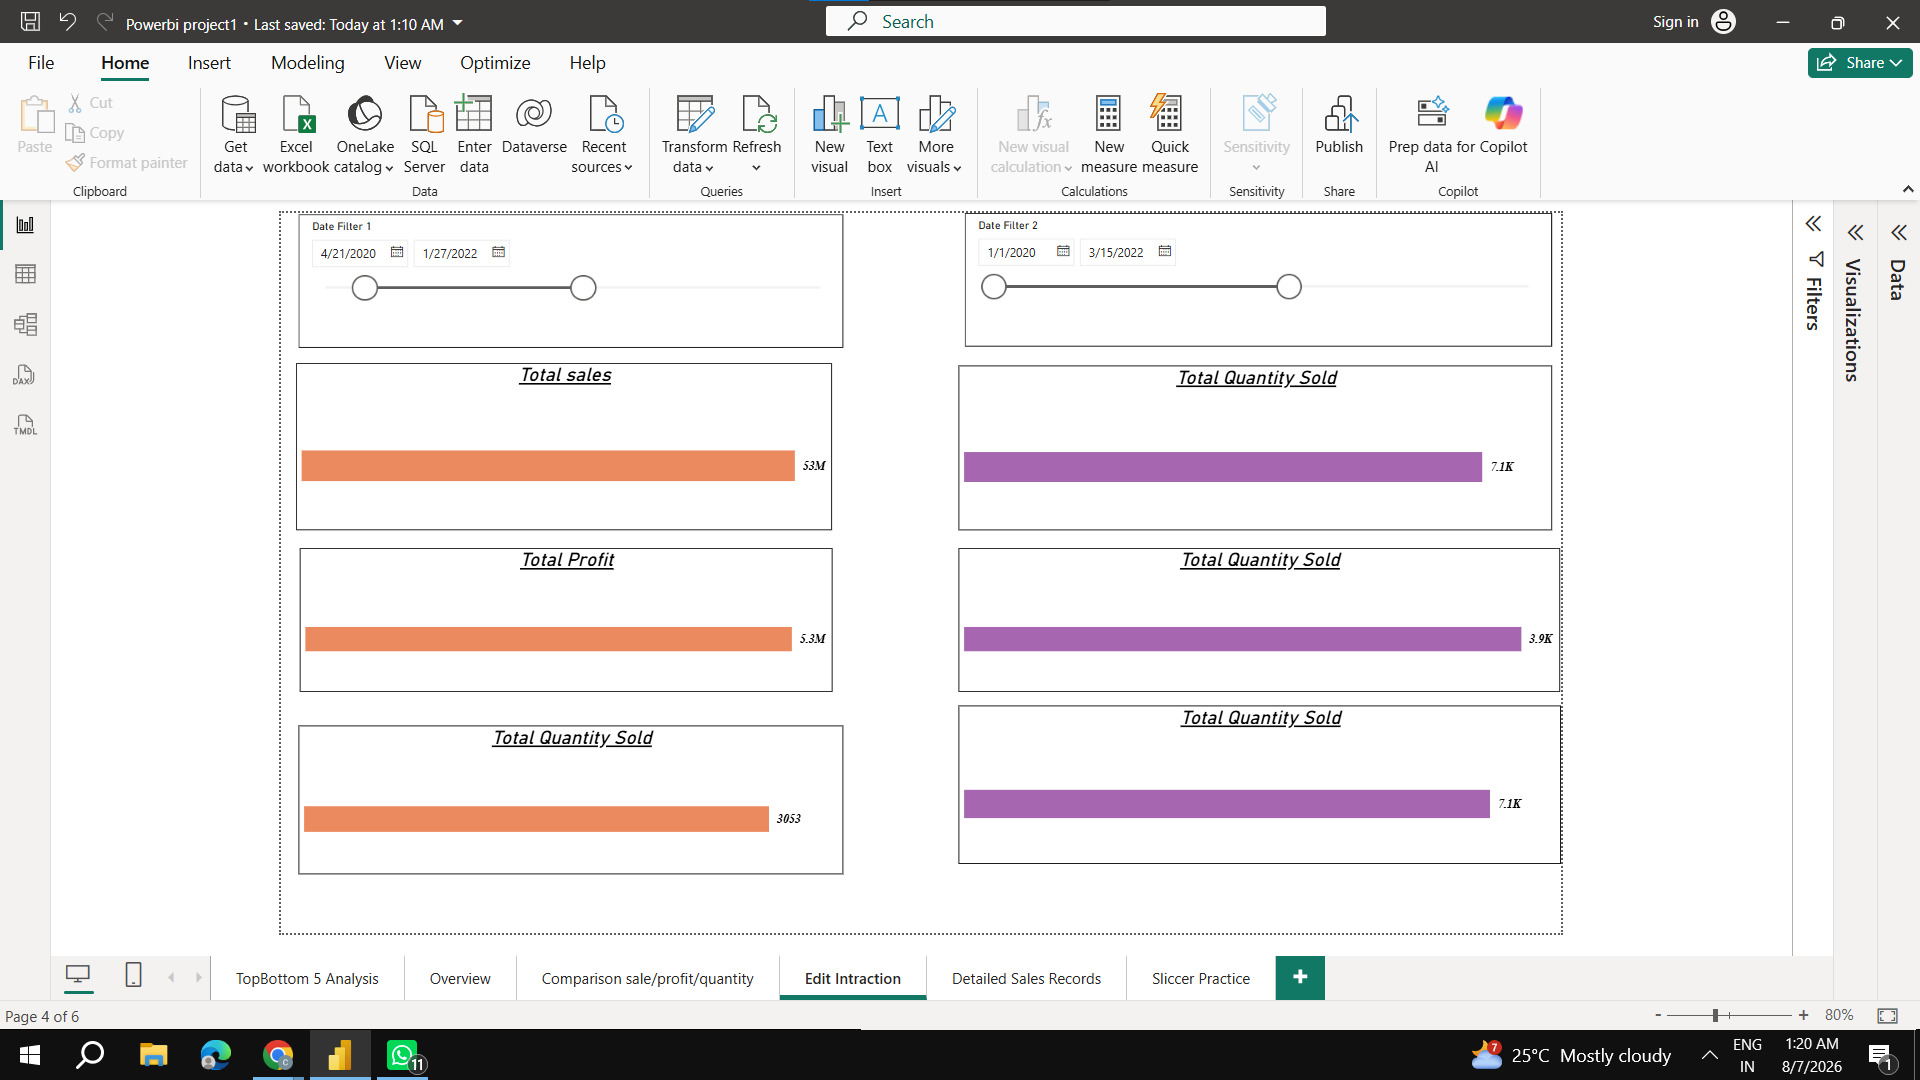

This screenshot's page, from the dashboard's own definition file:
{"tool":"powerbi","page":{"name":"Edit Intraction","canvas":[1280,720],"ordinal":3},"visuals":[{"type":"slicer","fields":{"Values":["Fact Table.Date (dd/mm/yyyy)"]},"box":[17.5,1.2,545,133.8],"z":0},{"type":"slicer","fields":{"Values":["Fact Table.Date (dd/mm/yyyy)"]},"box":[683.8,0,587.5,133.8],"z":1000},{"type":"barChart","title":"Total sales  ","fields":{"Y":["Sum(Fact Table.Net sales  )"]},"box":[15,150,536.2,167.5],"z":2000},{"type":"barChart","title":"Total Profit  ","fields":{"Y":["Sum(Fact Table.Profit)"]},"box":[18.8,335,532.5,143.8],"z":3000},{"type":"barChart","title":"Total Quantity Sold  ","fields":{"Y":["Sum(Fact Table.Units Sold)"]},"box":[17.5,512.5,545,148.8],"z":4000},{"type":"barChart","title":"Total Quantity Sold  ","fields":{"Y":["Sum(Fact Table.Units Sold)"]},"box":[677.5,152.5,593.8,165],"z":5000},{"type":"barChart","title":"Total Quantity Sold  ","fields":{"Y":["Sum(Fact Table.Units Sold)"]},"box":[677.5,335,601.2,143.8],"z":6000},{"type":"barChart","title":"Total Quantity Sold  ","fields":{"Y":["Sum(Fact Table.Units Sold)"]},"box":[677.5,492.5,602.5,158.8],"z":7000}]}

Visuals, with their boxes on the page's 1280x720 design canvas (x1, y1, x2, y2). These are canvas units, not pixel positions in the 1920x1080 screenshot, which may show the page scaled, cropped or inside an application window:
slicer - Fact Table.Date (dd/mm/yyyy): [18, 1, 562, 135]
slicer - Fact Table.Date (dd/mm/yyyy): [684, 0, 1271, 134]
"Total sales  " barChart: [15, 150, 551, 318]
"Total Profit  " barChart: [19, 335, 551, 479]
"Total Quantity Sold  " barChart: [18, 512, 562, 661]
"Total Quantity Sold  " barChart: [678, 152, 1271, 318]
"Total Quantity Sold  " barChart: [678, 335, 1279, 479]
"Total Quantity Sold  " barChart: [678, 492, 1280, 651]
